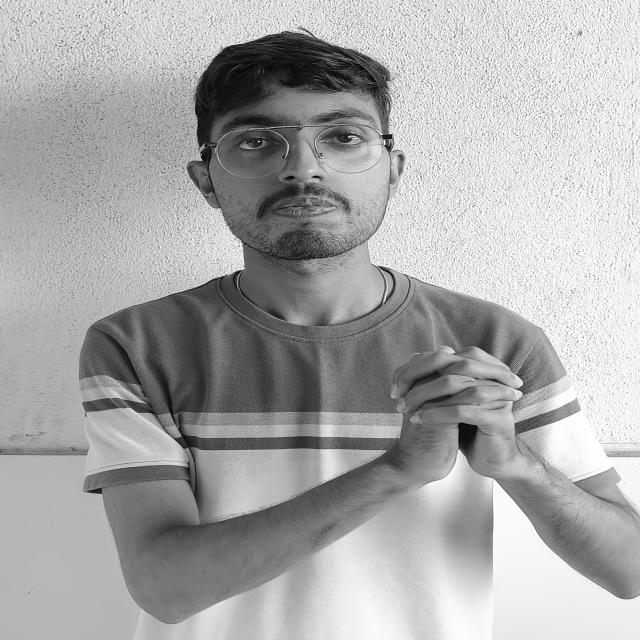Sorry: (337, 332, 608, 507)
